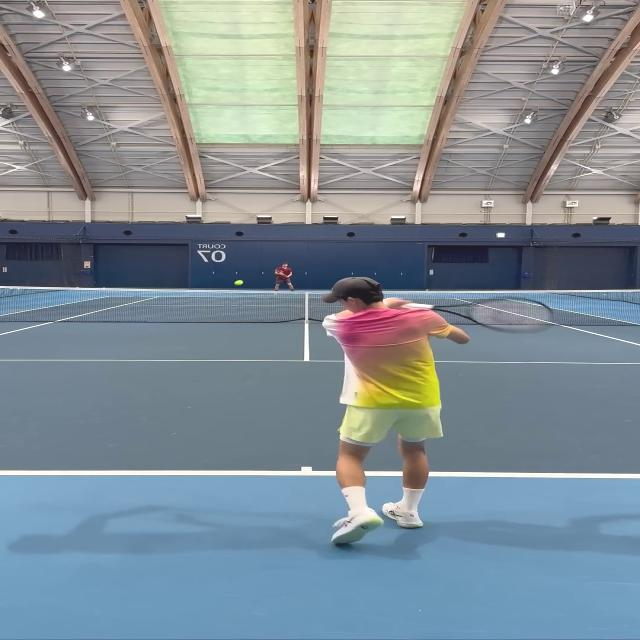tennis_ball: (236, 281, 242, 285)
